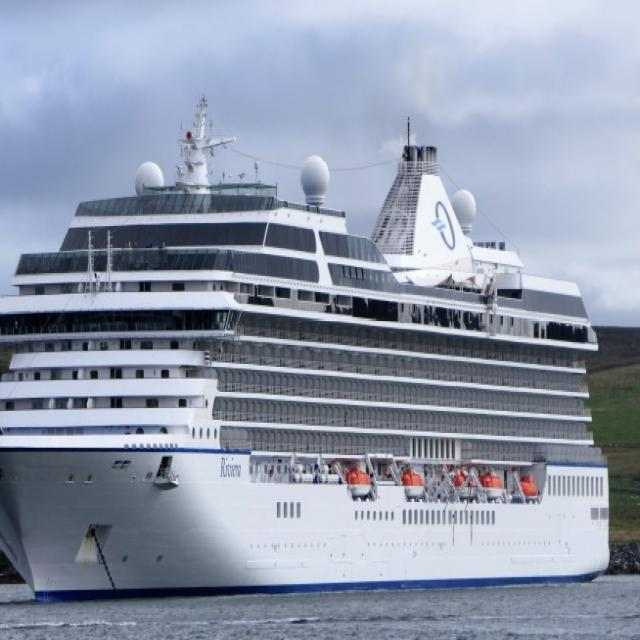cruises: (1, 82, 632, 604)
